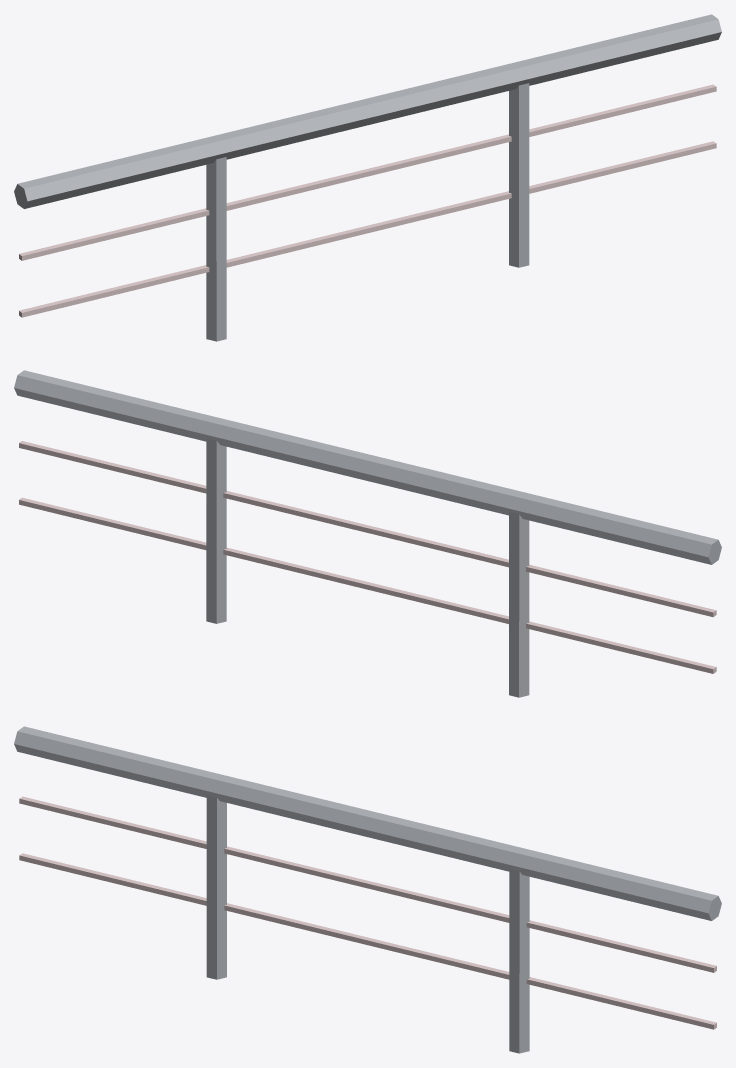
File: M_Fence03_3.fbx
The picture shows the model from 3 angles, top to bottom: view 1: azimuth 30°, elevation 25°; view 2: azimuth 150°, elevation 25°; view 3: azimuth 330°, elevation 25°; orthographic projection.
Visible parts, largest first — view 1: M_Fence03_3; view 2: M_Fence03_3; view 3: M_Fence03_3.
Boxes of the visible parts, bbox=[...] form: M_Fence03_3: bbox=[14, 14, 721, 341]; M_Fence03_3: bbox=[14, 370, 721, 697]; M_Fence03_3: bbox=[14, 726, 721, 1053].
Size of what is drawn, in the model's own units: 350 by 11.76 by 95.5.
